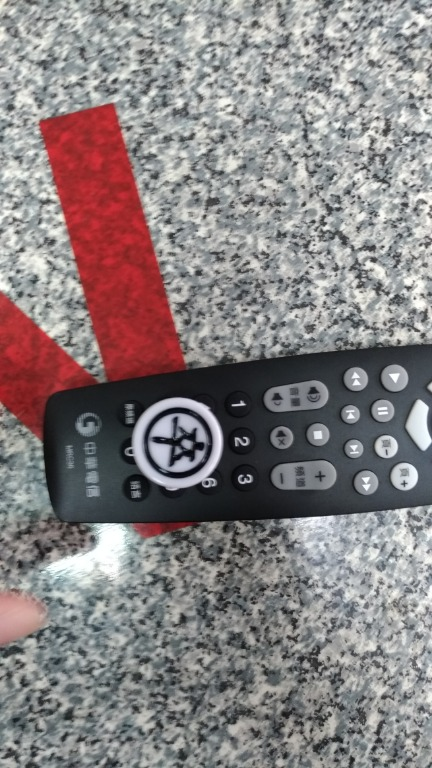b-pawn: (101, 382, 262, 510)
